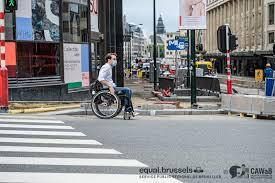wheelchair: (90, 53, 137, 120)
